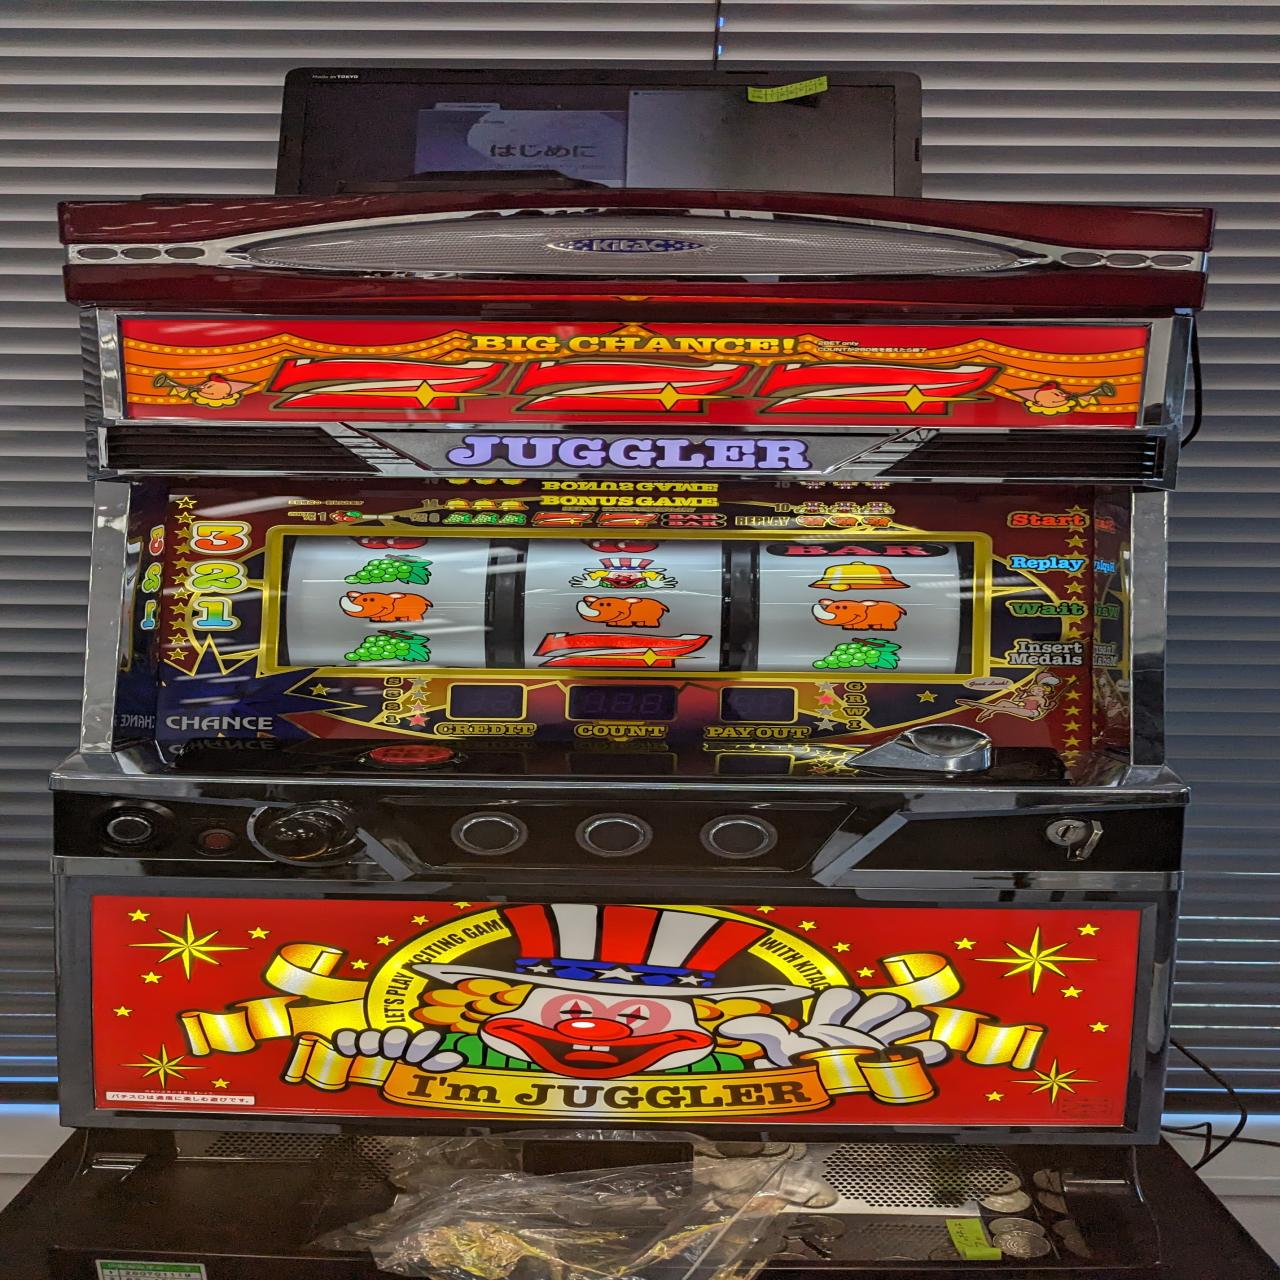7: (533, 631, 717, 670)
8: (336, 588, 437, 625), (810, 597, 911, 632), (574, 594, 673, 628)
Display: (272, 527, 980, 679)
bell: (806, 560, 915, 592)
clown: (567, 556, 681, 592)
grape: (345, 627, 436, 666), (808, 636, 904, 673), (342, 554, 435, 587)
